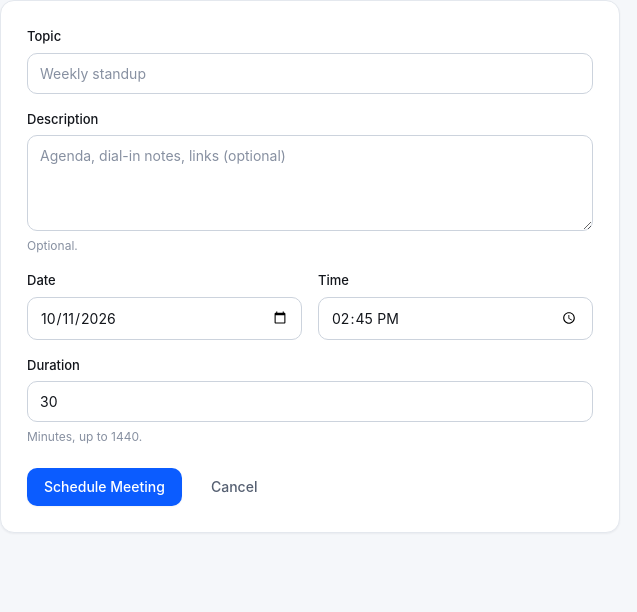
it: ScheduleForm › surfaces API failures without navigating
Type "Sprint retro" into the field labelled "Topic". click: (310, 73)
box: [27,52,593,94]
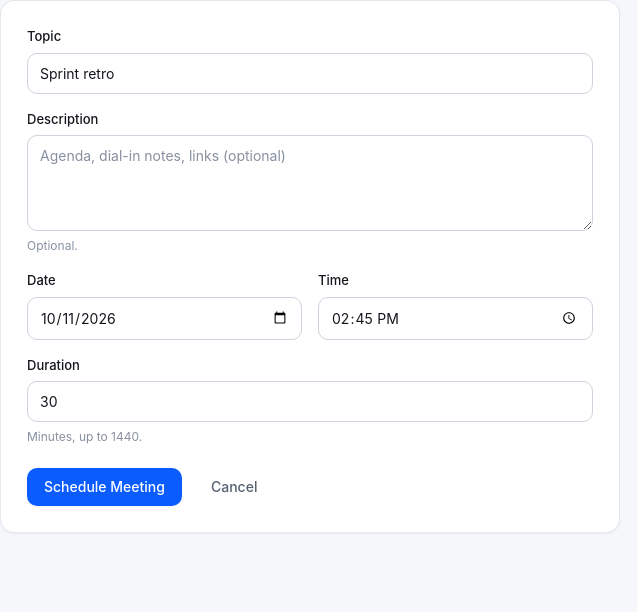
Click the button "Schedule Meeting". click: (104, 487)
box: [27,468,182,506]
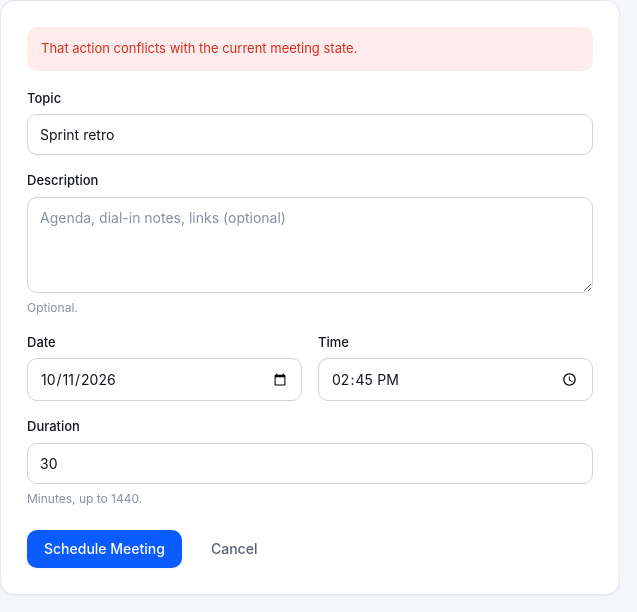
Expected: the message "That action conflicts with the current meeting state." is shown, [27,27,593,70]
